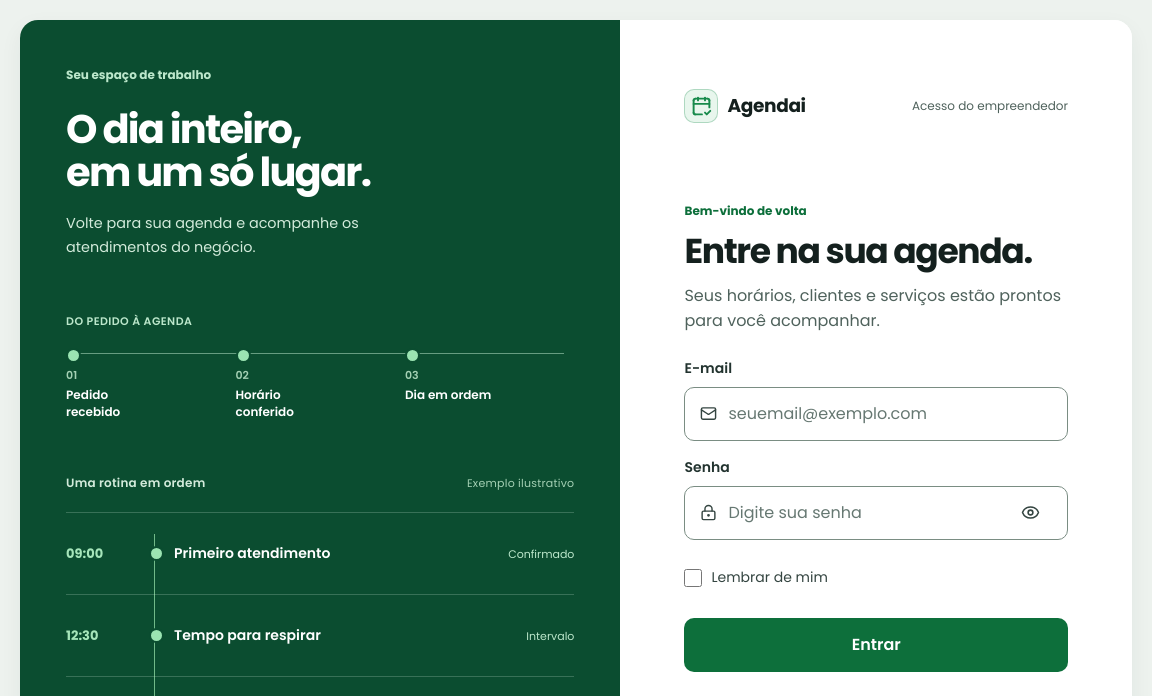
Login › permite conferir a senha sem apagar o valor digitado
Type "senha-segura" into the password field labelled "Senha" at (863, 513), box x1=728 y1=487 x2=997 y2=539
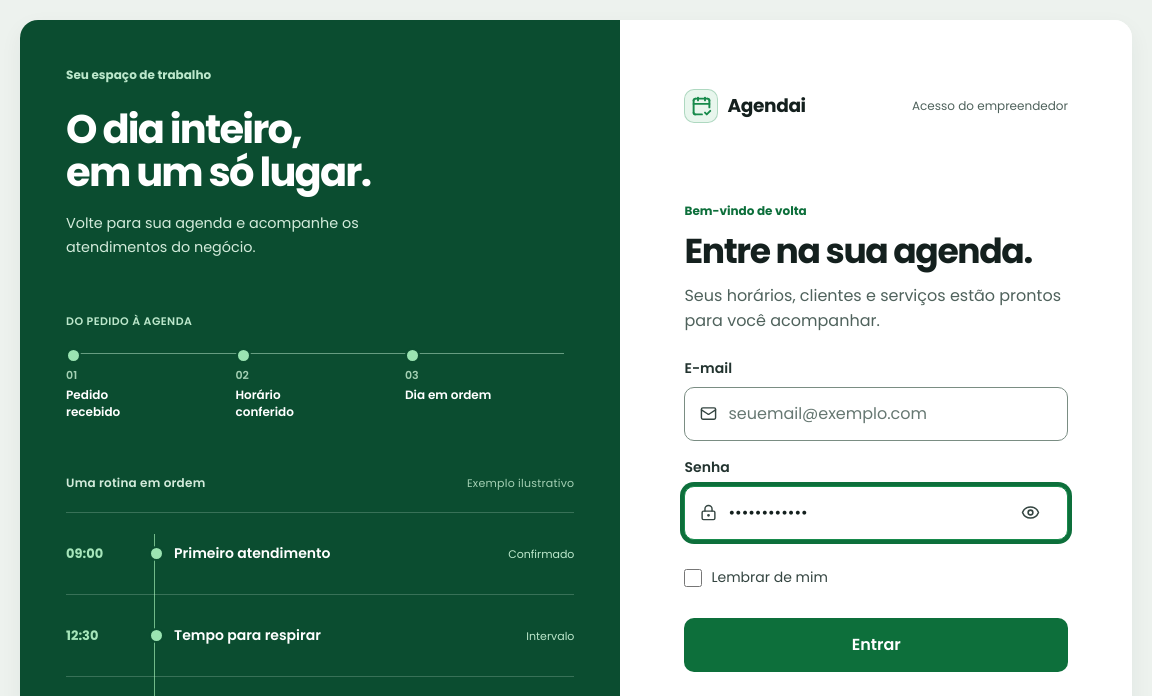
Click the button named "Mostrar senha" at (1030, 513), box x1=1008 y1=491 x2=1052 y2=535
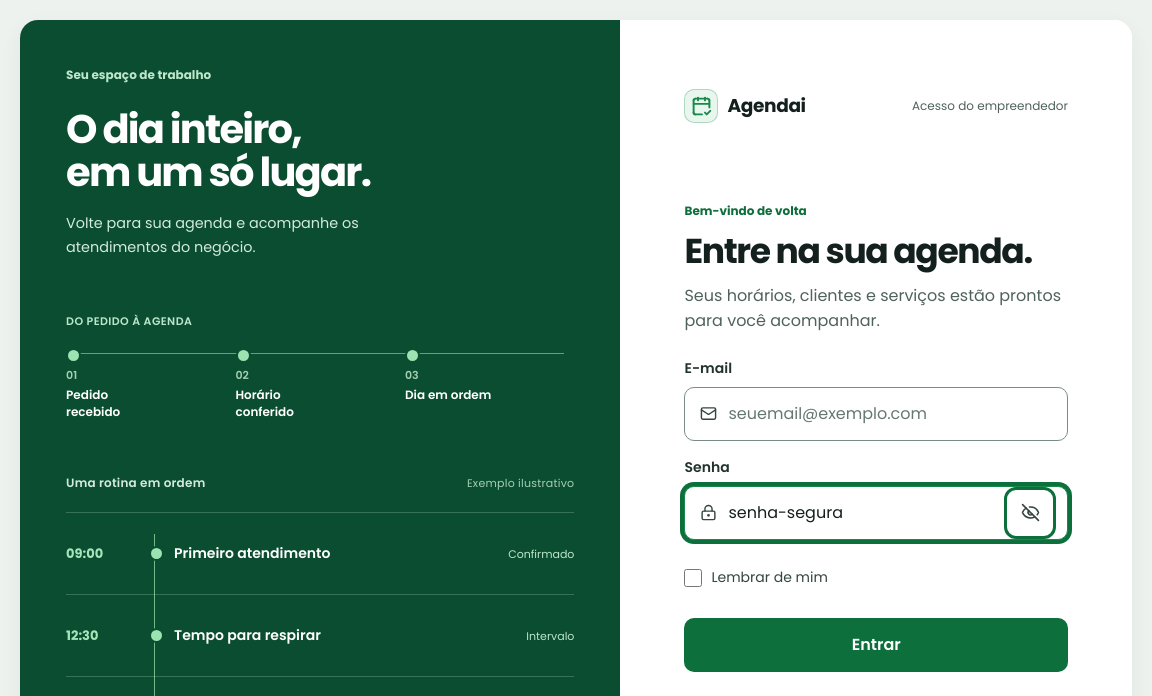
Expected: the field labelled "Senha" shows its text, x1=728 y1=487 x2=997 y2=539
Expected: the button named "Ocultar senha" is shown, x1=1008 y1=491 x2=1052 y2=535
